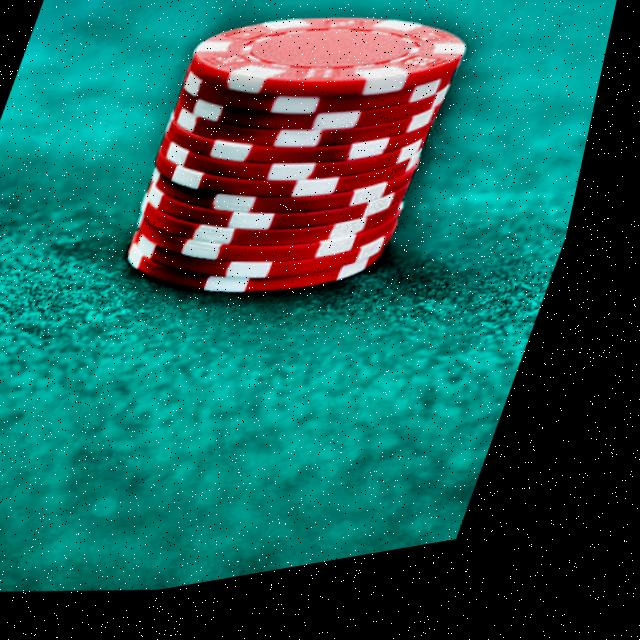Chip: (75, 0, 522, 370)
